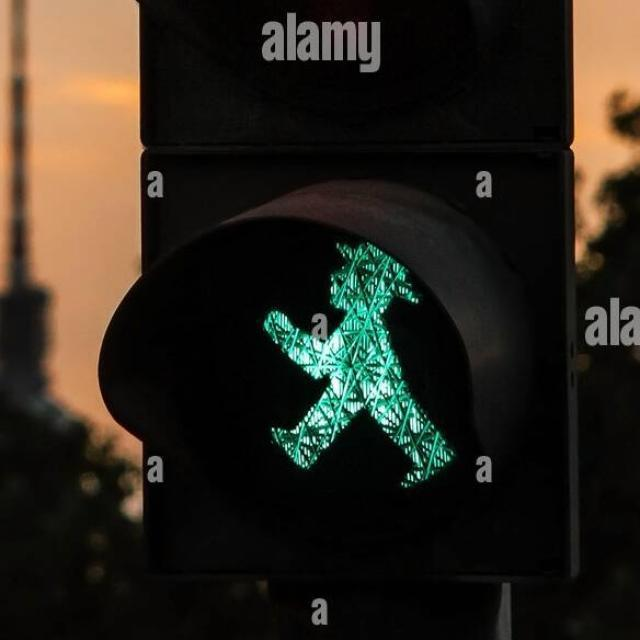geen-crossing: (258, 236, 460, 490)
